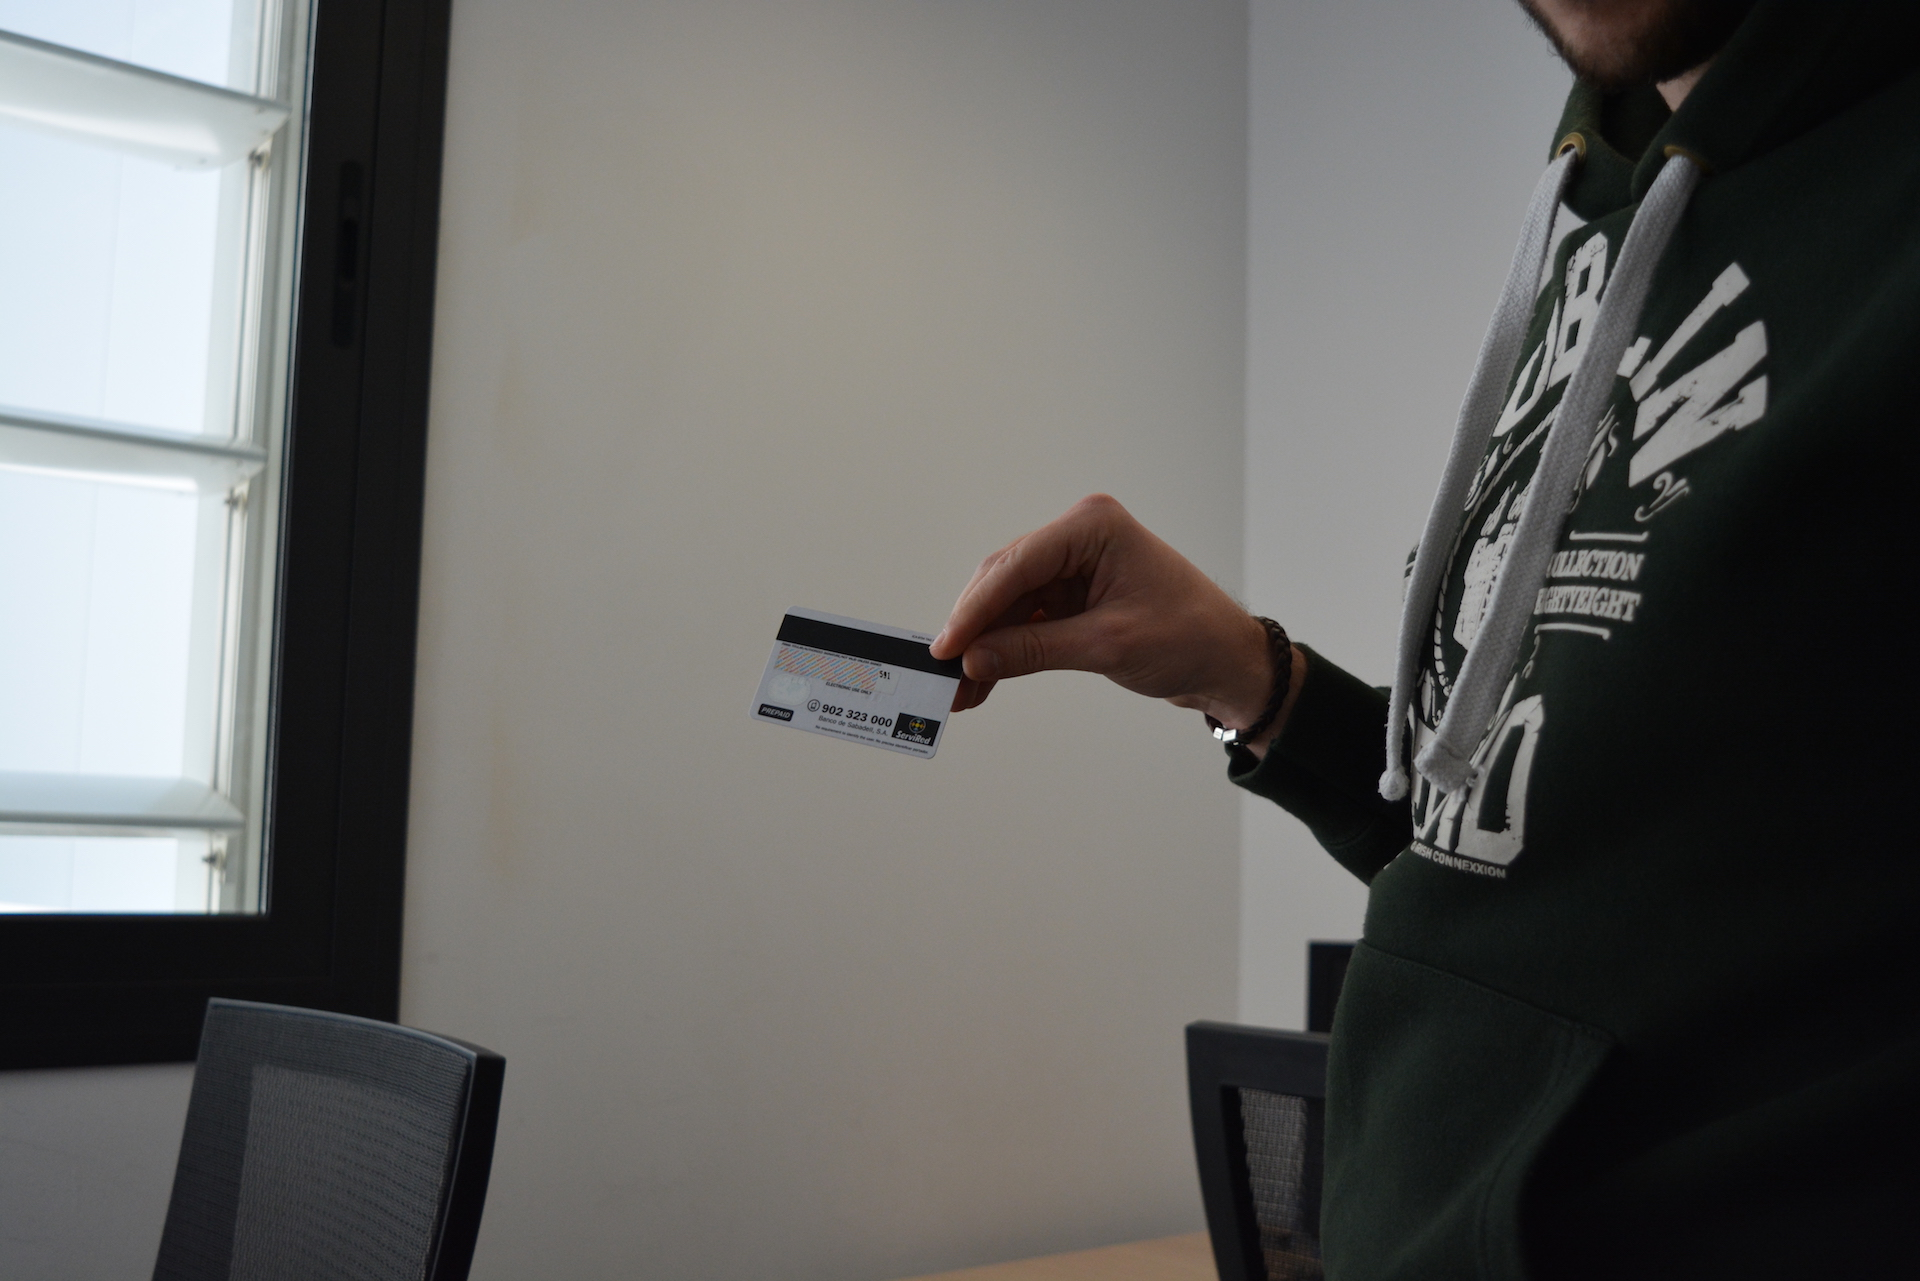tarjeta: (748, 605, 966, 761)
